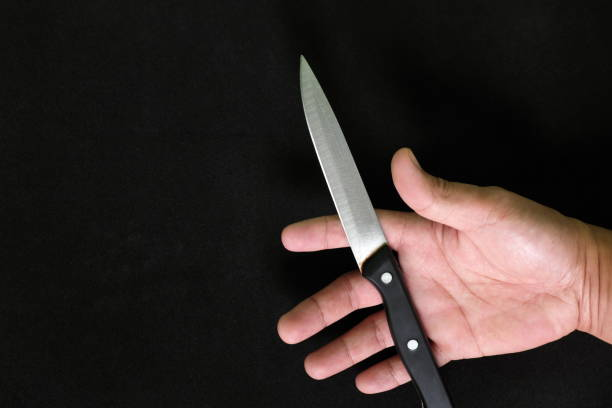knife: (297, 52, 456, 408)
